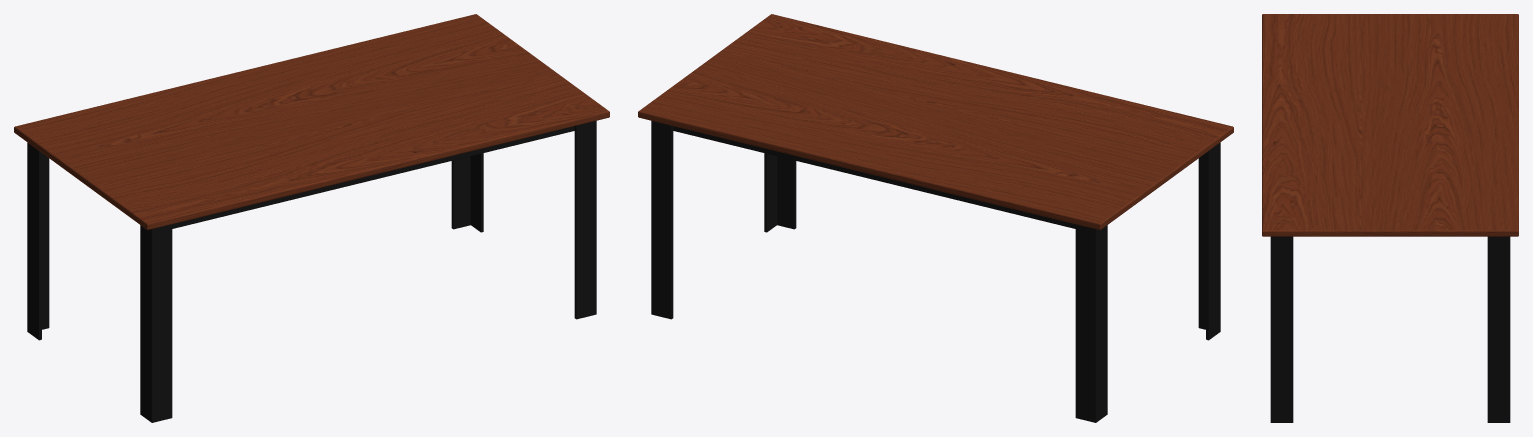
The model's file is table-valmo-180.glb.
3 views of the same model, side by side, from view 1: azimuth 30°, elevation 25°; view 2: azimuth 150°, elevation 25°; view 3: azimuth 270°, elevation 25° (orthographic). The views are drawn at different scales.
Bounding box in the file's own units: 1.8 × 0.76 × 0.9001.
Materials: 2 (1 with a texture image).
